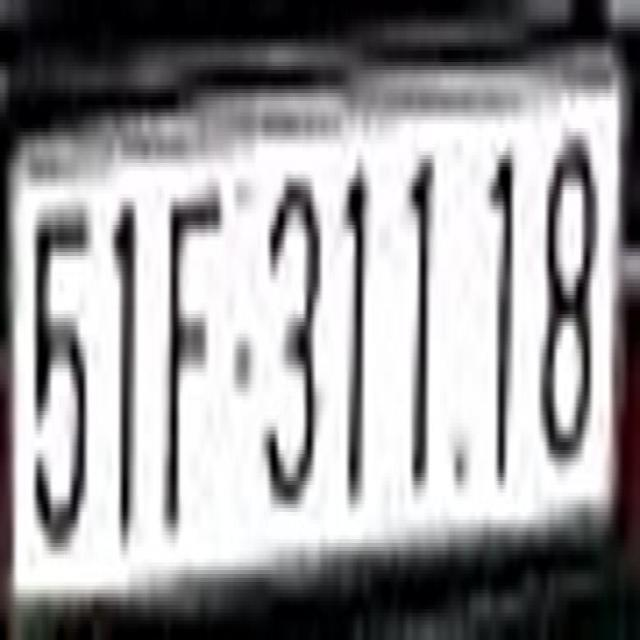1: (408, 152, 439, 496), (488, 144, 516, 492), (112, 190, 138, 551), (341, 167, 367, 520)
3: (265, 135, 321, 528)
5: (33, 205, 90, 547)
8: (541, 116, 600, 492)
F: (164, 183, 222, 532)
